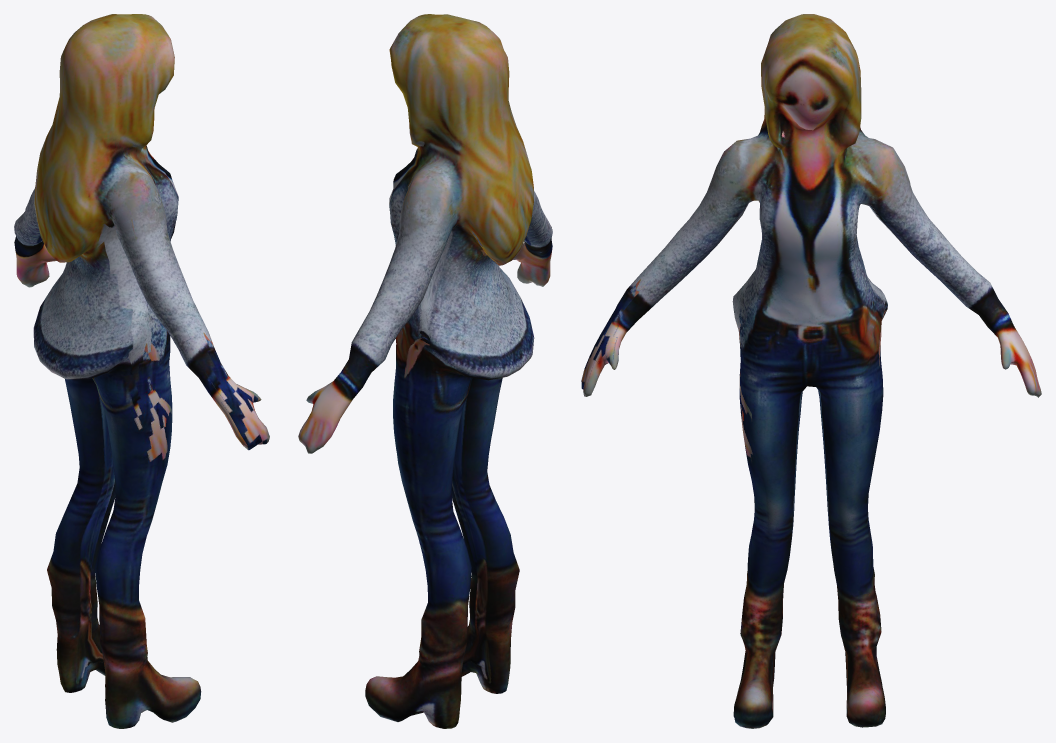
Rendered from a9d41409601f_Christina_Pazsitzky.fbx.
3 renders of one model, left to right at view 1: azimuth 30°, elevation 25°; view 2: azimuth 150°, elevation 25°; view 3: azimuth 270°, elevation 25°, orthographic.
Visible parts, largest first — view 1: mesh; view 2: mesh; view 3: mesh.
Part boxes in pixels (x1=…): mesh: x1=14, y1=14, x2=269, y2=728; mesh: x1=298, y1=14, x2=552, y2=728; mesh: x1=581, y1=14, x2=1041, y2=728.
Bounding box in the file's own units: 19.22 × 99.87 × 60.42.
